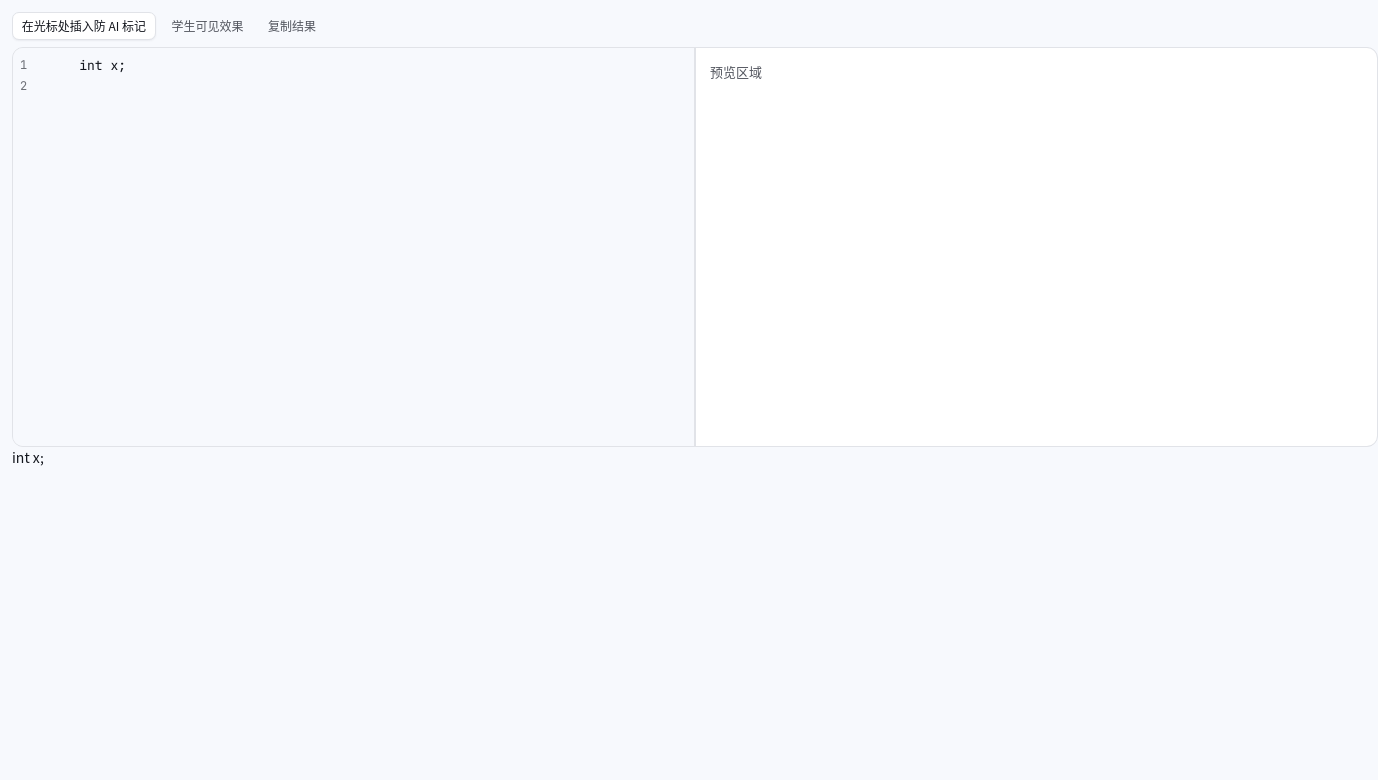
Scenario: anti AI marker author controls › keeps canonical leading indentation and the trailing newline when adding a marker
Click the button "在光标处插入防 AI 标记". click: (84, 26)
box: [12,12,156,40]
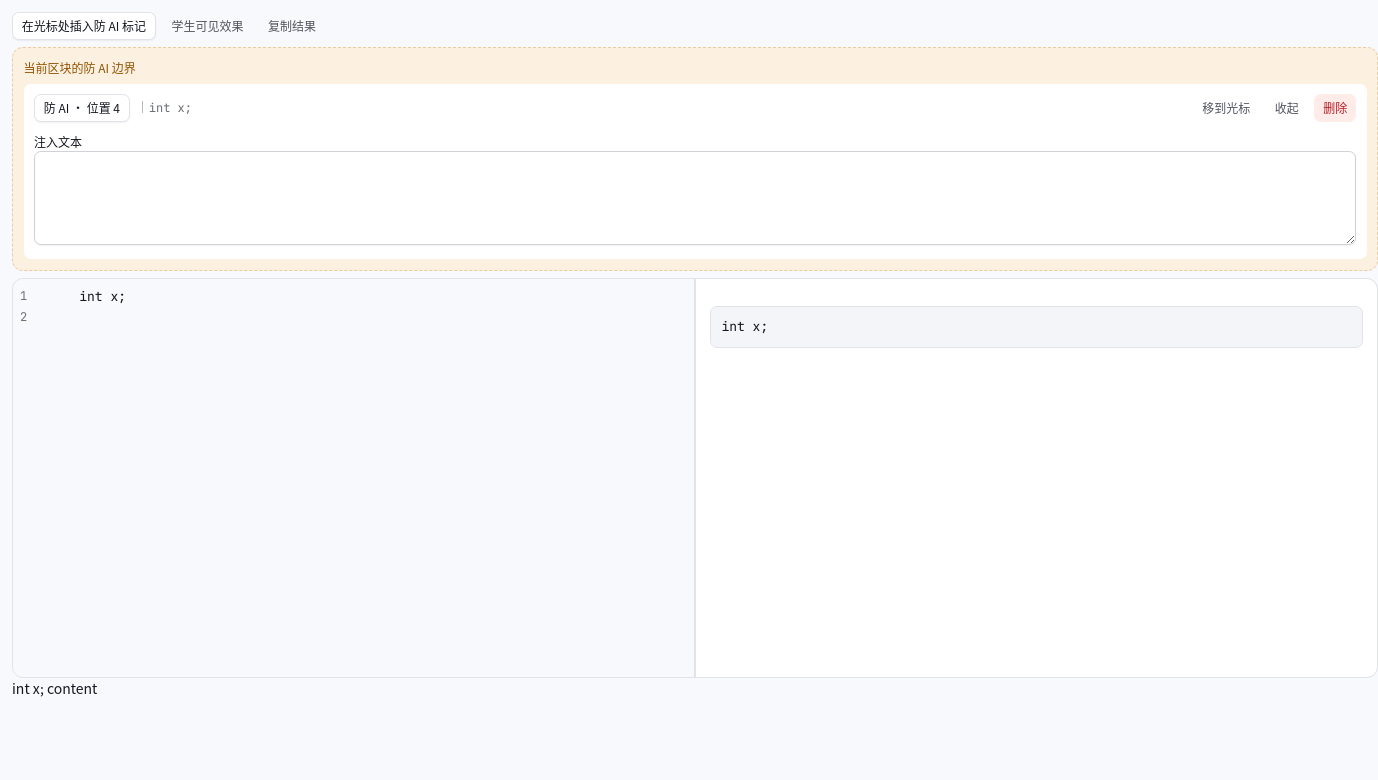
Expected: the text "│int x;" is shown, [137,100,192,116]
